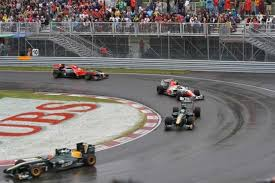FormulaOneCar: (2, 140, 99, 183), (162, 98, 207, 134), (154, 75, 208, 104), (48, 60, 111, 84)
